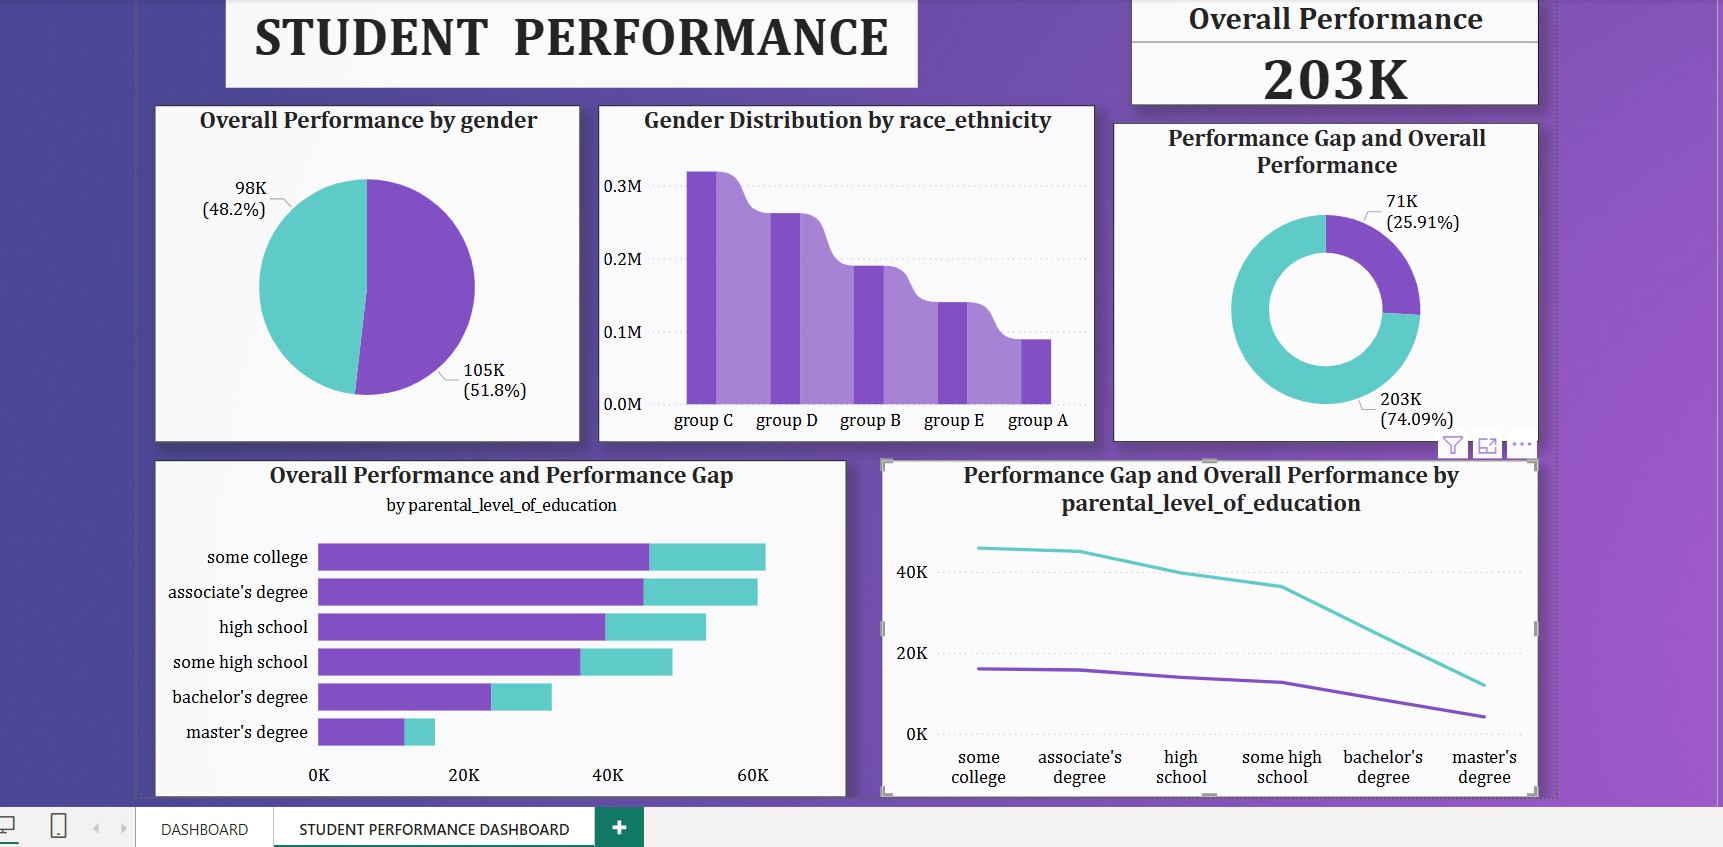

What the dashboard file says about the page in this screenshot:
{"tool":"powerbi","page":{"name":"STUDENT PERFORMANCE DASHBOARD","canvas":[1280,720],"ordinal":1},"visuals":[{"type":"textbox","box":[80,0,624,80],"z":0},{"type":"card","title":"Overall Performance","fields":{"Values":["Sum(study_performance.Overall Performance)"]},"box":[896,0,368,96],"z":1},{"type":"pieChart","title":"Overall Performance by gender","fields":{"Category":["study_performance.gender"],"Y":["Sum(study_performance.Overall Performance)"]},"box":[16,96,384,304],"z":2},{"type":"ribbonChart","title":"Gender Distribution by race_ethnicity","fields":{"Category":["study_performance.race_ethnicity"],"Y":["Sum(study_performance.Gender Distribution)"]},"box":[416,96,448,304],"z":3},{"type":"donutChart","title":"Performance Gap and  Overall Performance","fields":{"Y":["Sum(study_performance.Performance Gap)","Sum(study_performance.Overall Performance)"]},"box":[880,112,384,288],"z":4},{"type":"barChart","title":"Overall Performance and Performance Gap ","fields":{"Category":["study_performance.parental_level_of_education"],"Y":["Sum(study_performance.Overall Performance)","Sum(study_performance.Performance Gap)"]},"box":[16,416,624,304],"z":5},{"type":"lineChart","title":"Performance Gap and Overall Performance by parental_level_of_education","fields":{"Category":["study_performance.parental_level_of_education"],"Y":["Sum(study_performance.Performance Gap)","Sum(study_performance.Overall Performance)"]},"box":[672,416,592,304],"z":6}]}

Visuals, with their boxes in screenshot pixels (x1, y1, x2, y2):
textbox: l=211, t=0, r=910, b=81
"Overall Performance" card: l=1125, t=0, r=1537, b=99
"Overall Performance by gender" pieChart: l=139, t=99, r=569, b=439
"Gender Distribution by race_ethnicity" ribbonChart: l=587, t=99, r=1089, b=439
"Performance Gap and  Overall Performance" donutChart: l=1107, t=117, r=1537, b=439
"Overall Performance and Performance Gap " barChart: l=139, t=457, r=838, b=798
"Performance Gap and Overall Performance by parental_level_of_education" lineChart: l=874, t=457, r=1537, b=798
